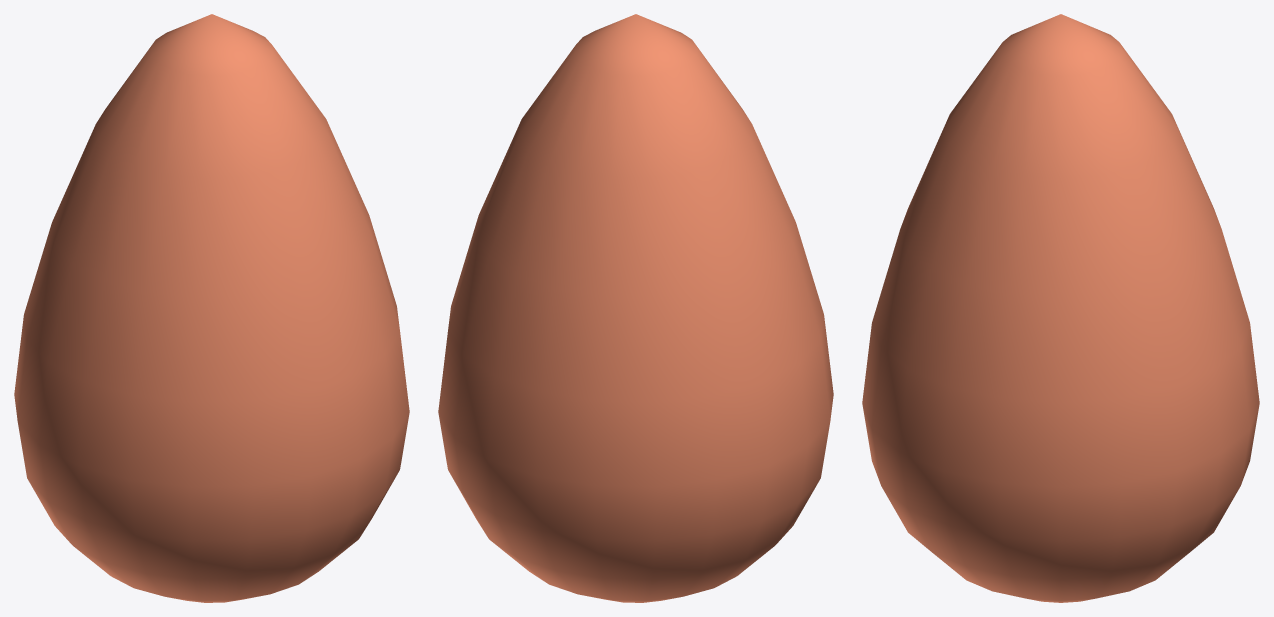
The model's file is egg.fbx.
3 renders of one model, left to right at view 1: azimuth 30°, elevation 25°; view 2: azimuth 150°, elevation 25°; view 3: azimuth 270°, elevation 25°, orthographic.
Visible parts, largest first — view 1: egg; view 2: egg; view 3: egg.
Part boxes in pixels (left/top/right/bottom): egg: left=14, top=14, right=409, bottom=602; egg: left=438, top=14, right=833, bottom=602; egg: left=862, top=14, right=1259, bottom=602.
Size of the model in its own units: 4.98 by 7.91 by 4.98.
